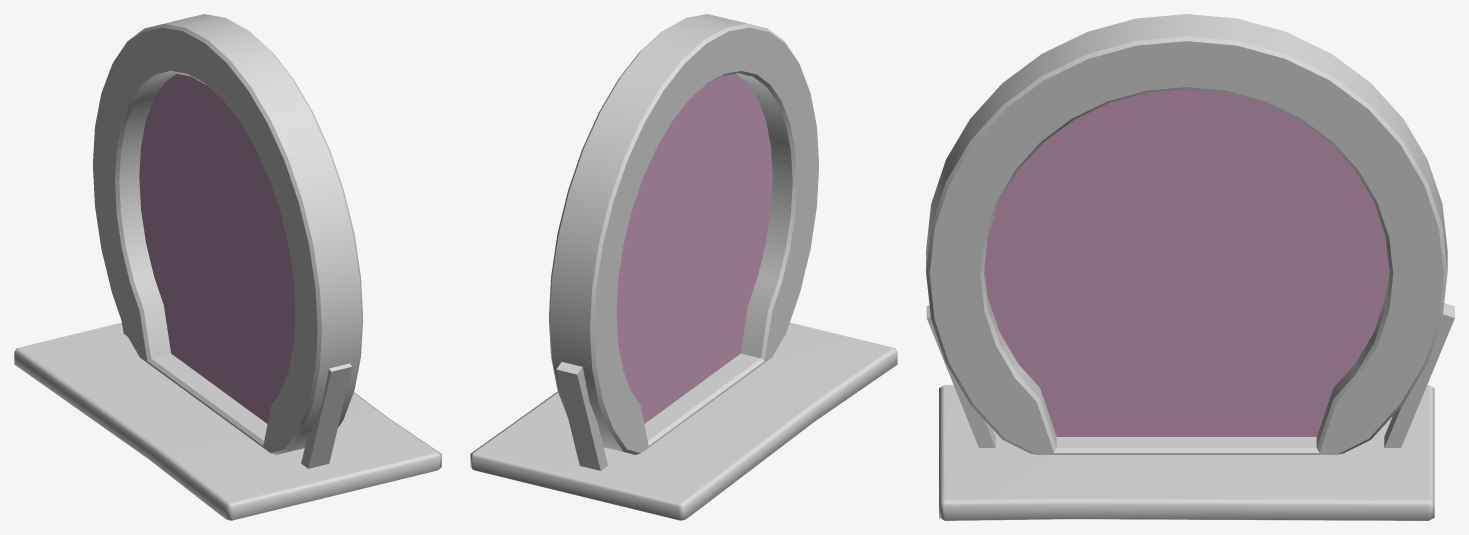
File: MESH_Gateway.fbx
3 renders of one model, left to right at view 1: azimuth 30°, elevation 25°; view 2: azimuth 150°, elevation 25°; view 3: azimuth 270°, elevation 25°, orthographic. The views are drawn at different scales.
Visible parts, largest first — view 1: Ring, FilterMesh, Base, support1; view 2: Ring, FilterMesh, Base, support2; view 3: FilterMesh, Ring, Base, support2, support1.
Boxes of the visible parts, bbox=[...] form: Ring: bbox=[93, 14, 362, 454]; FilterMesh: bbox=[139, 73, 295, 423]; Base: bbox=[14, 322, 441, 520]; support1: bbox=[301, 363, 351, 468]; Ring: bbox=[549, 14, 818, 454]; FilterMesh: bbox=[616, 73, 772, 423]; Base: bbox=[470, 322, 897, 520]; support2: bbox=[556, 362, 607, 470]; FilterMesh: bbox=[984, 89, 1388, 436]; Ring: bbox=[926, 14, 1447, 454]; Base: bbox=[939, 385, 1434, 520]; support2: bbox=[1384, 303, 1454, 447]; support1: bbox=[926, 305, 995, 447].
Size of the model in its own units: 2.27 by 3.86 by 4.22.
